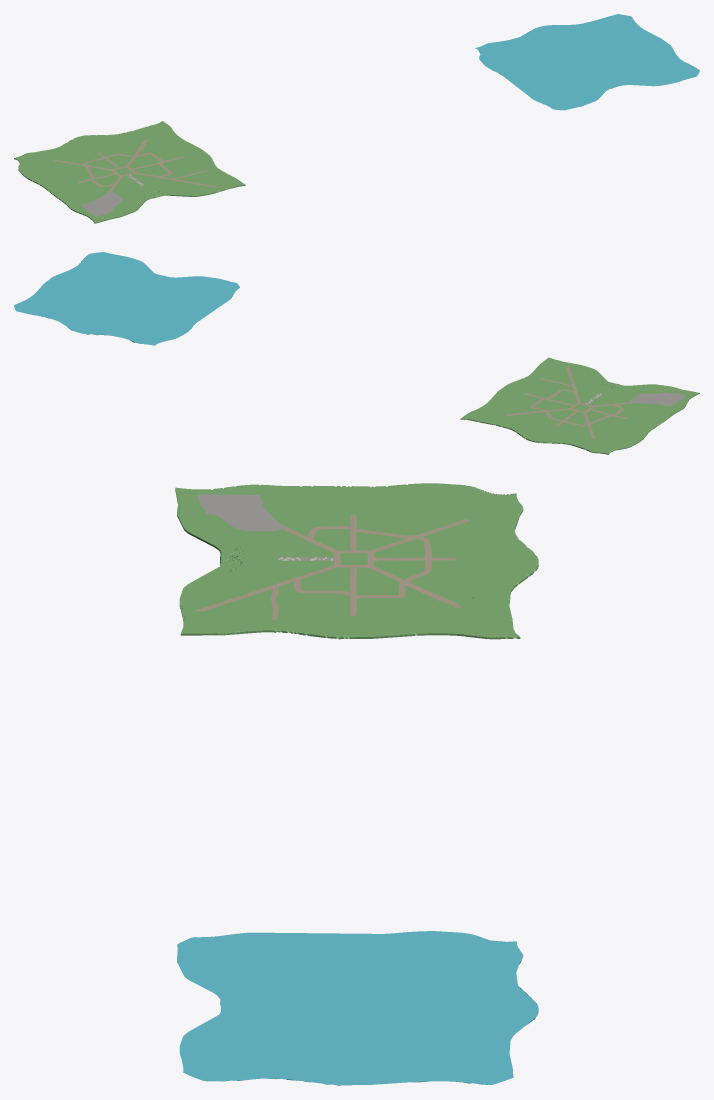
File: persistent_base.glb
3 renders of one model, top to bottom at view 1: azimuth 30°, elevation 25°; view 2: azimuth 150°, elevation 25°; view 3: azimuth 270°, elevation 25°, orthographic. The views are drawn at different scales.
Visible parts, largest first — view 1: Cube.001, Cube.003, path, Grid; view 2: Cube.001, Cube.003, path, Grid; view 3: Cube.001, Cube.003, path, Grid.
Part boxes in pixels (x1=…): Cube.001: x1=475, y1=14, x2=699, y2=110; Cube.003: x1=14, y1=121, x2=245, y2=223; path: x1=53, y1=139, x2=217, y2=192; Grid: x1=81, y1=192, x2=122, y2=216; Cube.001: x1=14, y1=252, x2=239, y2=345; Cube.003: x1=460, y1=357, x2=699, y2=454; path: x1=506, y1=365, x2=631, y2=438; Grid: x1=630, y1=392, x2=686, y2=406; Cube.001: x1=177, y1=931, x2=538, y2=1085; Cube.003: x1=175, y1=483, x2=538, y2=639; path: x1=194, y1=514, x2=470, y2=619; Grid: x1=198, y1=494, x2=285, y2=531.
Bounding box in the file's own units: 1051 × 5.73 × 271.
